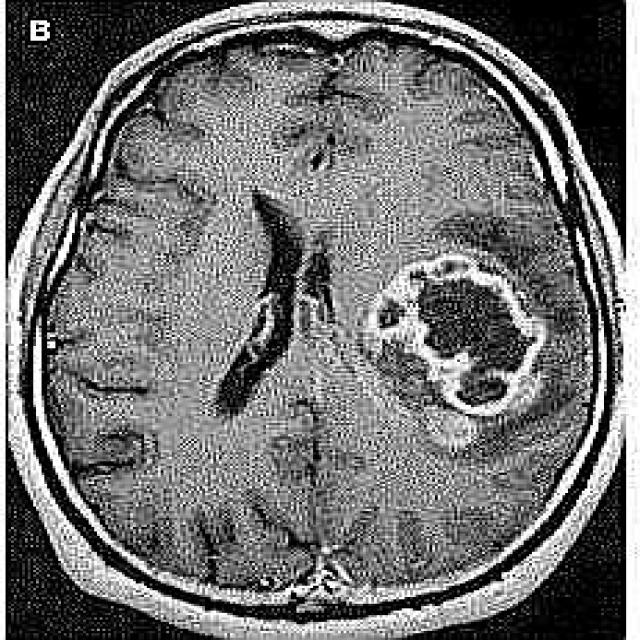Tumor-Cell: (363, 202, 531, 402)
